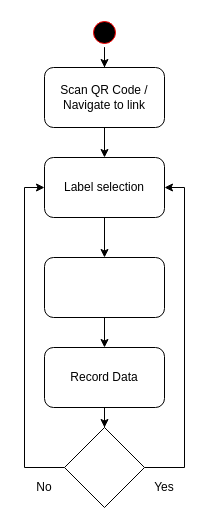
Image size: 210x525. Some labels were removed from this diagram. The box of each missing label's shape, as (x1, y1, x2, y2) in pixels:
Accept Sample: (64, 426, 144, 508)
Configure Parameters: (44, 256, 164, 318)
